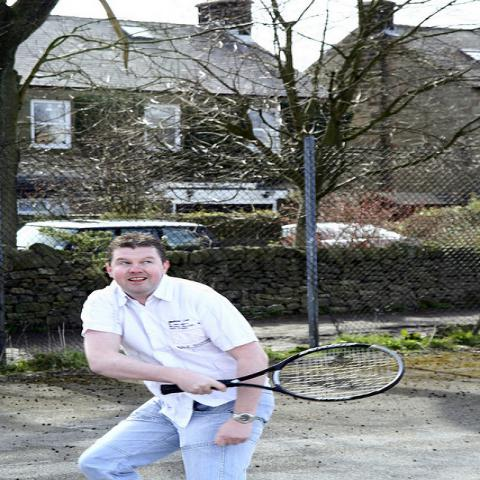car: (17, 219, 225, 250), (277, 222, 416, 250), (18, 198, 73, 218)
